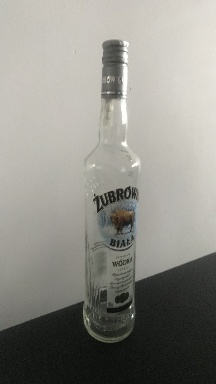butelka: (80, 36, 142, 346)
